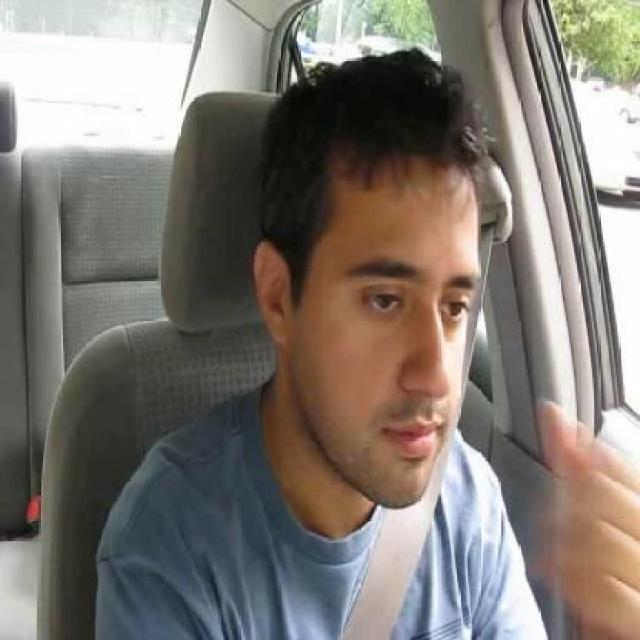awake: (362, 284, 401, 316), (439, 292, 467, 326)
